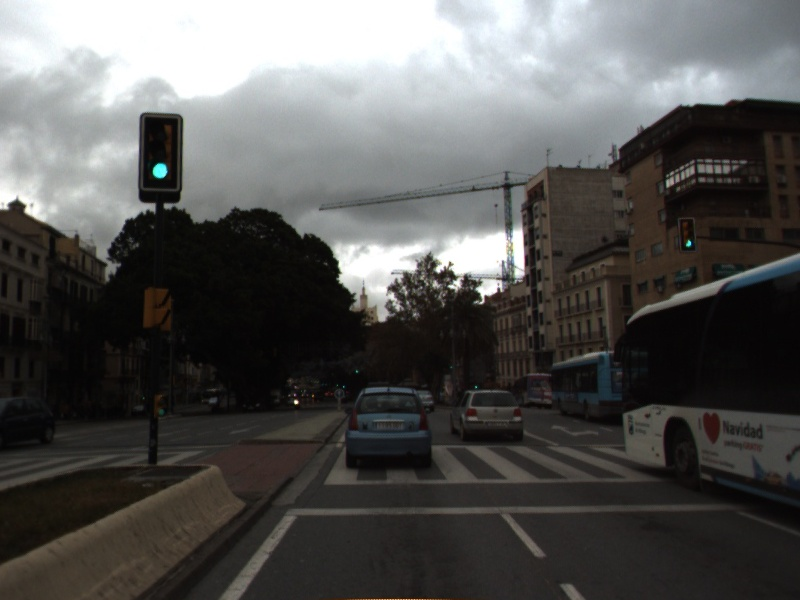STRAIGHT_RIGHT: (549, 422, 601, 439)
